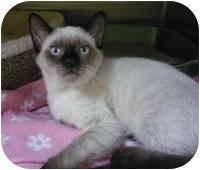siamese: (28, 9, 109, 92)
